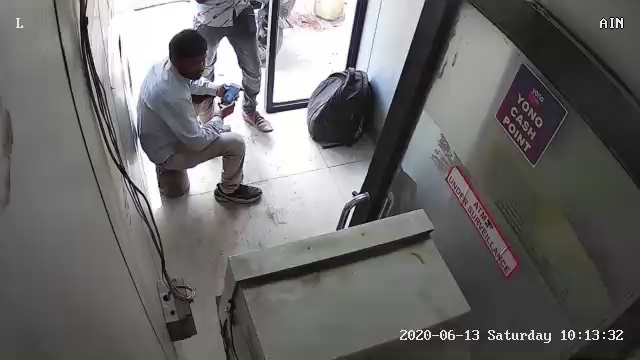open: (160, 4, 364, 158)
